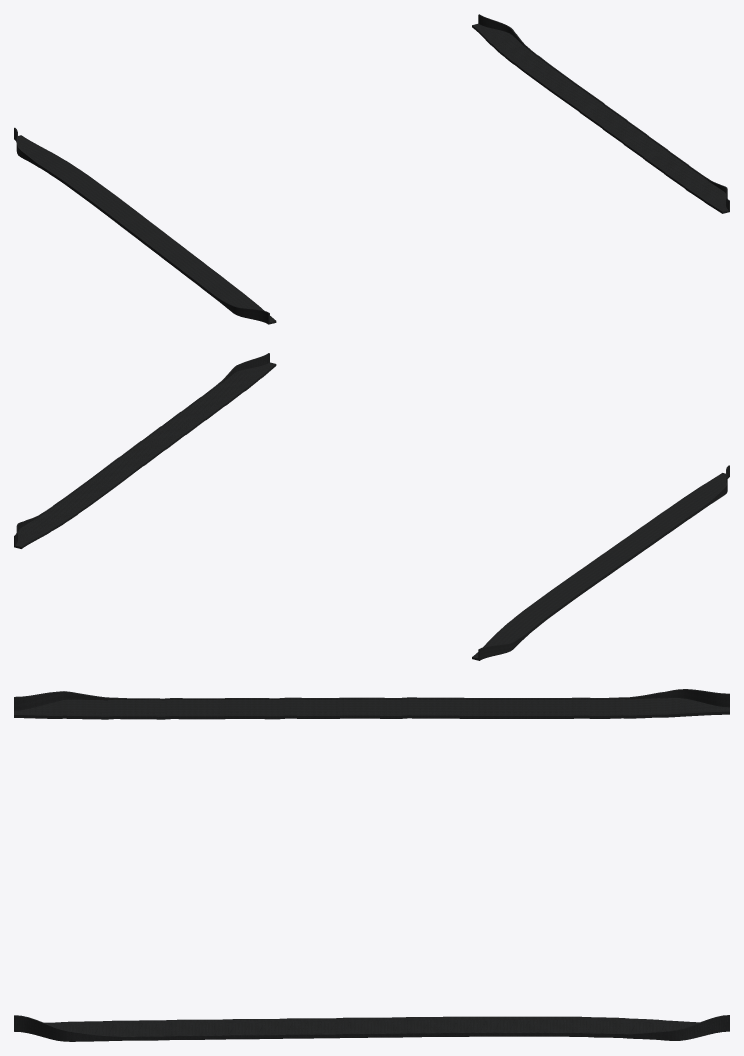
Rendered from RA30_race_side_steps.glb.
3 views of the same model, one above another, from view 1: azimuth 30°, elevation 25°; view 2: azimuth 150°, elevation 25°; view 3: azimuth 270°, elevation 25° (orthographic). The views are drawn at different scales.
Visible parts, largest first — view 1: MOD_ND_RA30_running_blade_1, MOD_ND_RA30_running_blade_neg1; view 2: MOD_ND_RA30_running_blade_1, MOD_ND_RA30_running_blade_neg1; view 3: MOD_ND_RA30_running_blade_neg1, MOD_ND_RA30_running_blade_1.
Part boxes in pixels (<box>): MOD_ND_RA30_running_blade_1: <box>472,14,729,213</box>; MOD_ND_RA30_running_blade_neg1: <box>14,127,276,324</box>; MOD_ND_RA30_running_blade_1: <box>14,353,276,548</box>; MOD_ND_RA30_running_blade_neg1: <box>472,465,729,660</box>; MOD_ND_RA30_running_blade_neg1: <box>14,689,729,719</box>; MOD_ND_RA30_running_blade_1: <box>14,1015,729,1041</box>.
Size of the model in its own units: 1.71 by 0.041 by 1.52.
1 material, 1 textured.
